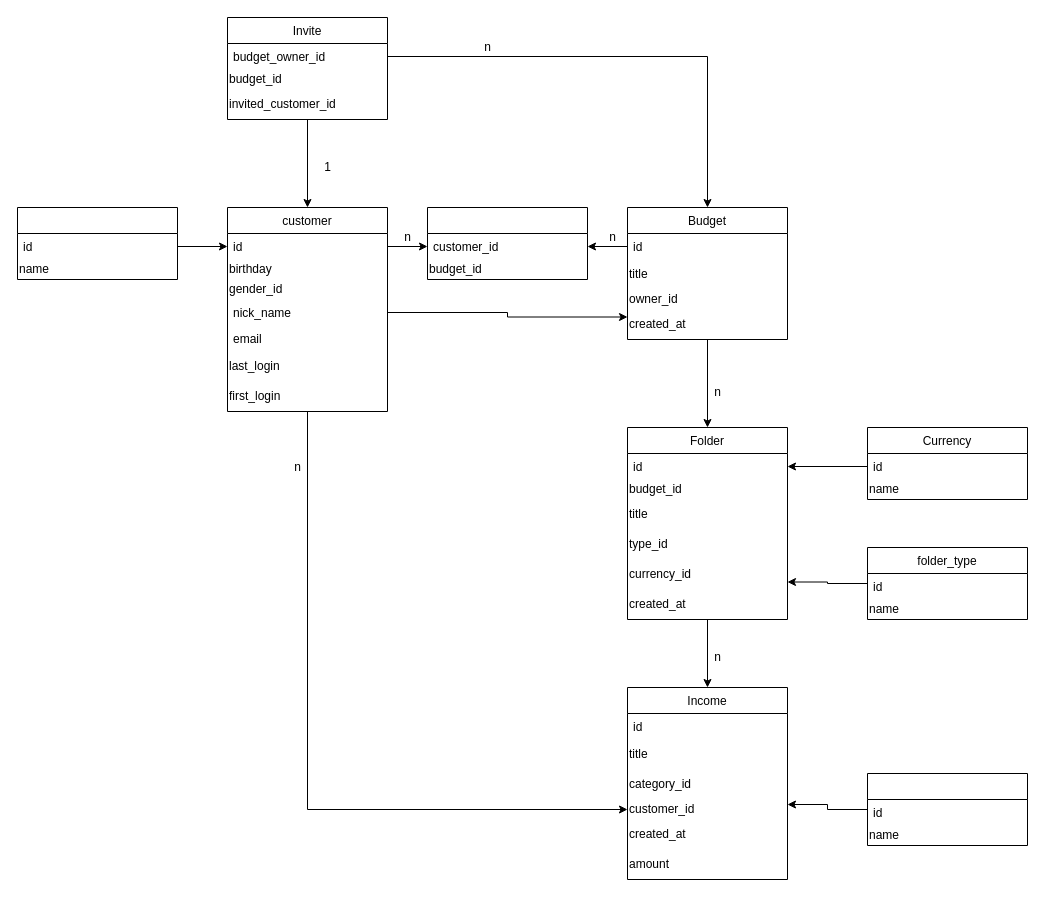
The diagram is 1045 pixels wide and 897 high, and some of its shapes have lost their labels. The box of each missing label's shape, as (x1, y1, x2, y2) in pixels:
customer_budget: (426, 206, 588, 280)
Gender: (16, 206, 178, 280)
income_category: (866, 772, 1028, 846)
